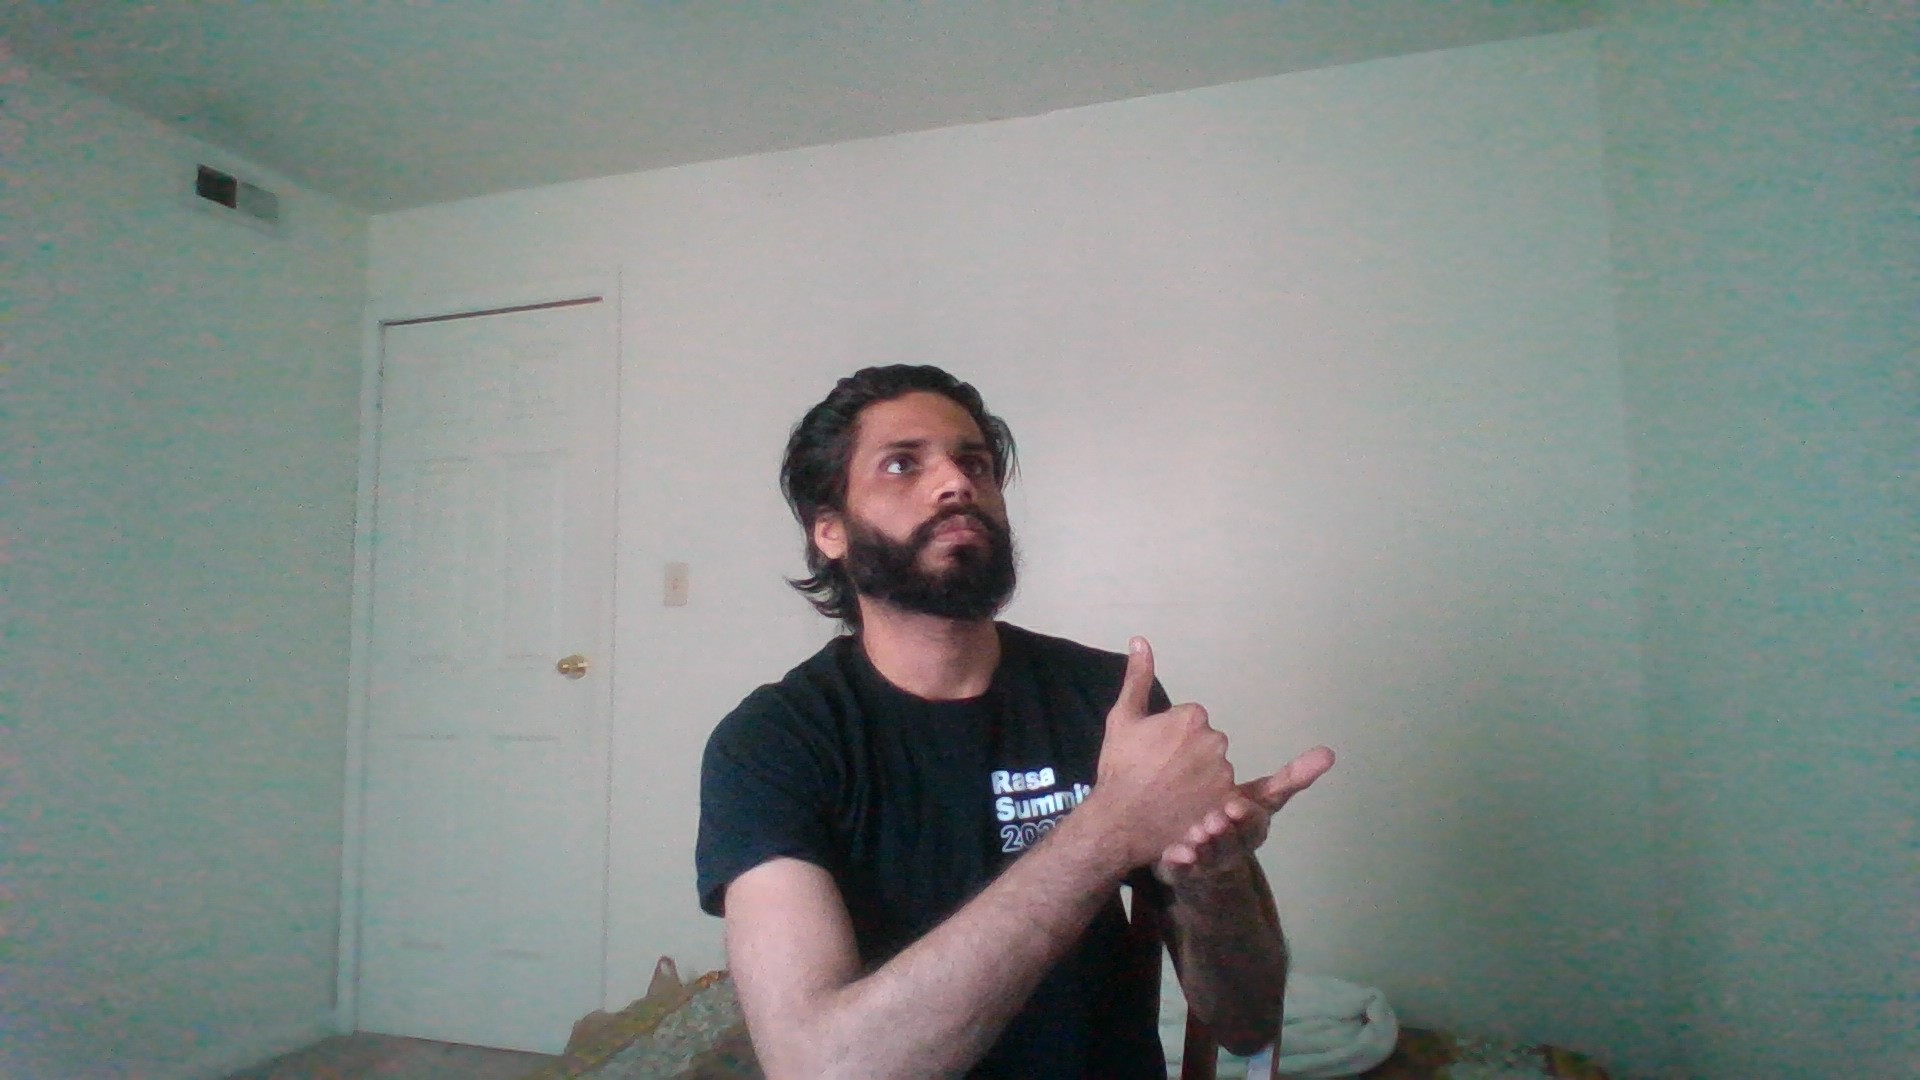Help: (1046, 626, 1356, 909)
